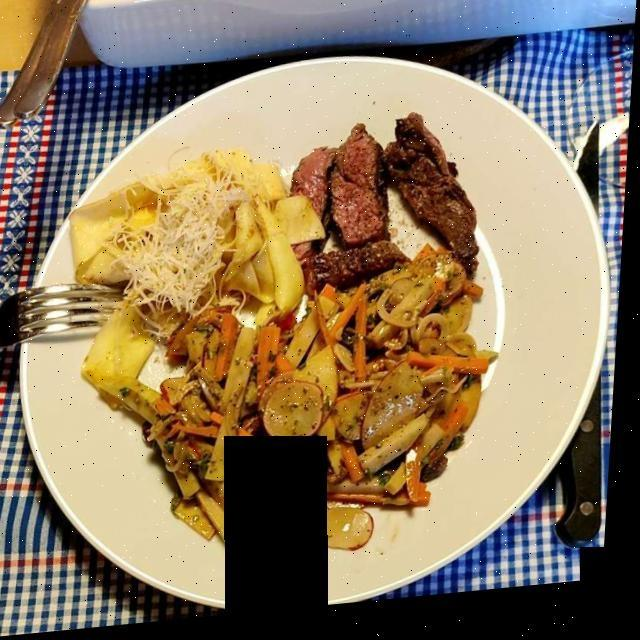beef: (298, 127, 478, 309)
cheese: (121, 164, 252, 326)
pasta: (76, 152, 326, 361)
vegetables: (119, 254, 483, 576)
